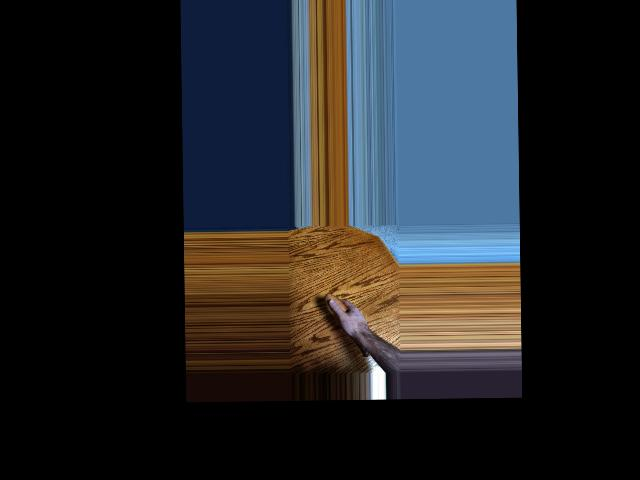sweet_potato: (323, 291, 368, 359)
